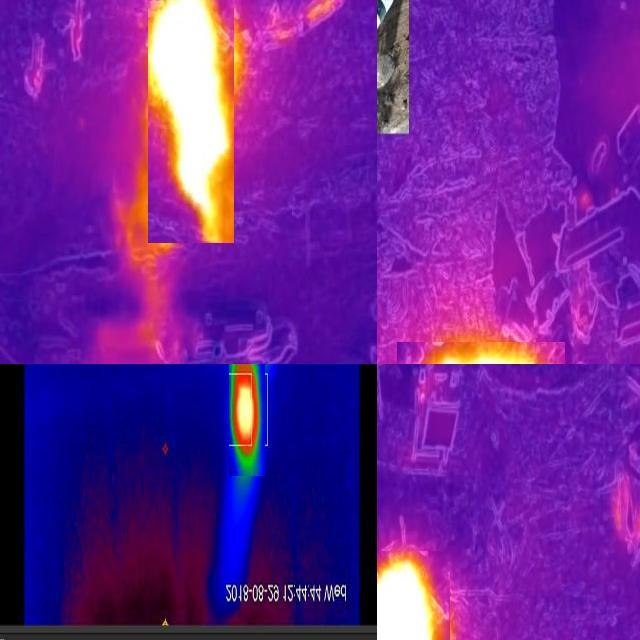fire: (148, 1, 234, 243), (378, 551, 450, 640), (229, 365, 265, 476)
